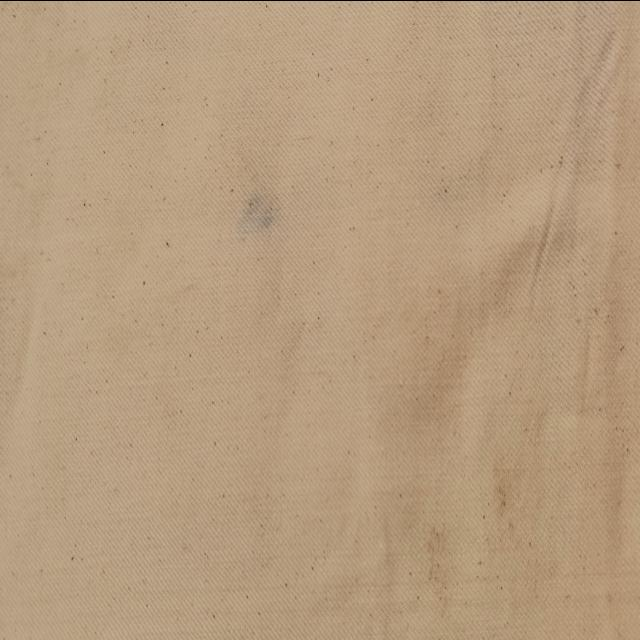taaaches: (421, 495, 462, 617), (234, 166, 290, 255), (489, 452, 521, 550)
